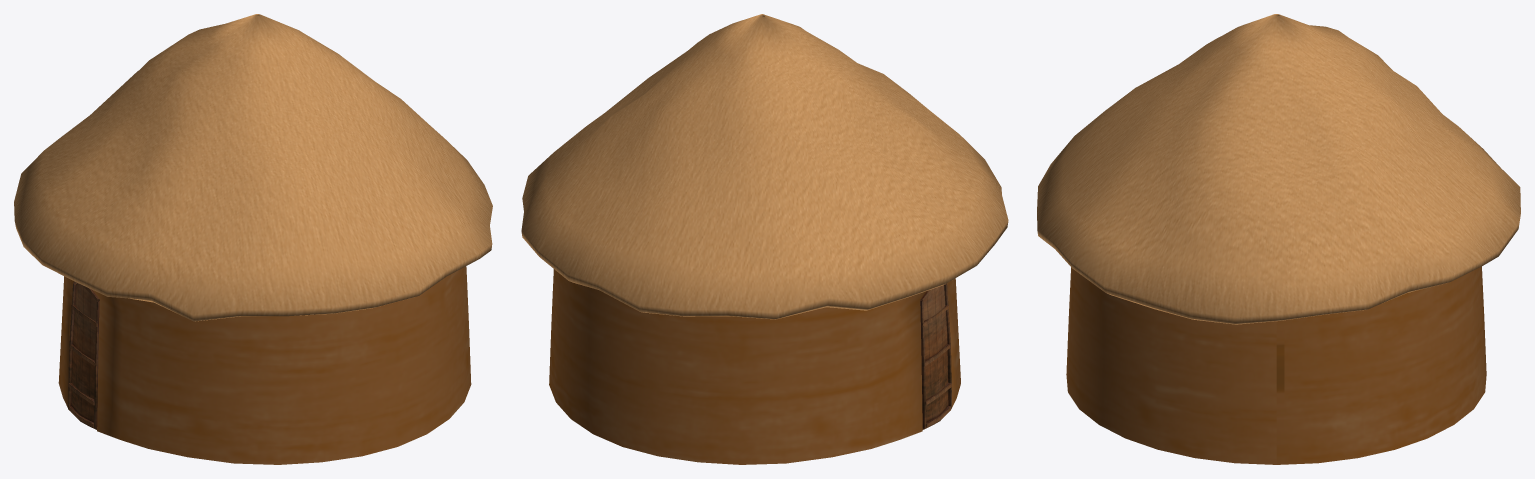
File: House 1.fbx
3 renders of one model, left to right at view 1: azimuth 30°, elevation 25°; view 2: azimuth 150°, elevation 25°; view 3: azimuth 270°, elevation 25°, orthographic.
Parts seen in each view (by area): view 1: House.001; view 2: House.001; view 3: House.001.
Part boxes in pixels (left/top/right/bottom): House.001: left=14, top=14, right=492, bottom=464; House.001: left=521, top=14, right=1008, bottom=464; House.001: left=1037, top=14, right=1520, bottom=464.
Size of the model in its own units: 3.35 by 2.72 by 3.31.
